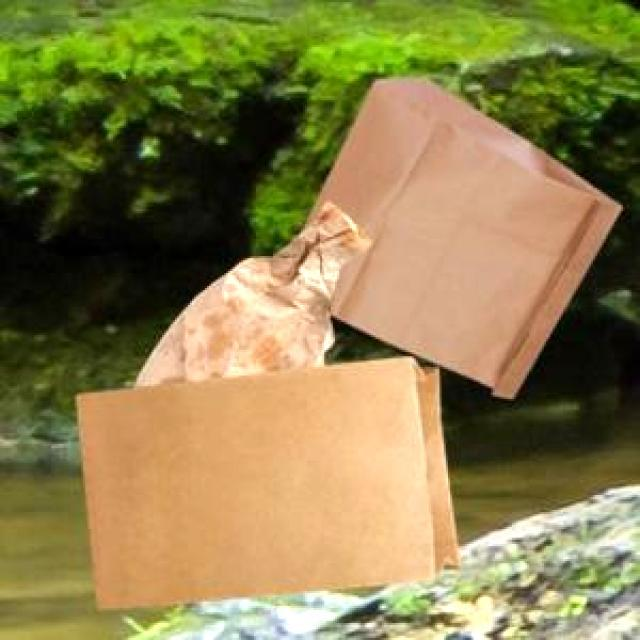Paper_Bag: (300, 76, 618, 396), (74, 355, 457, 605), (131, 200, 368, 386)
